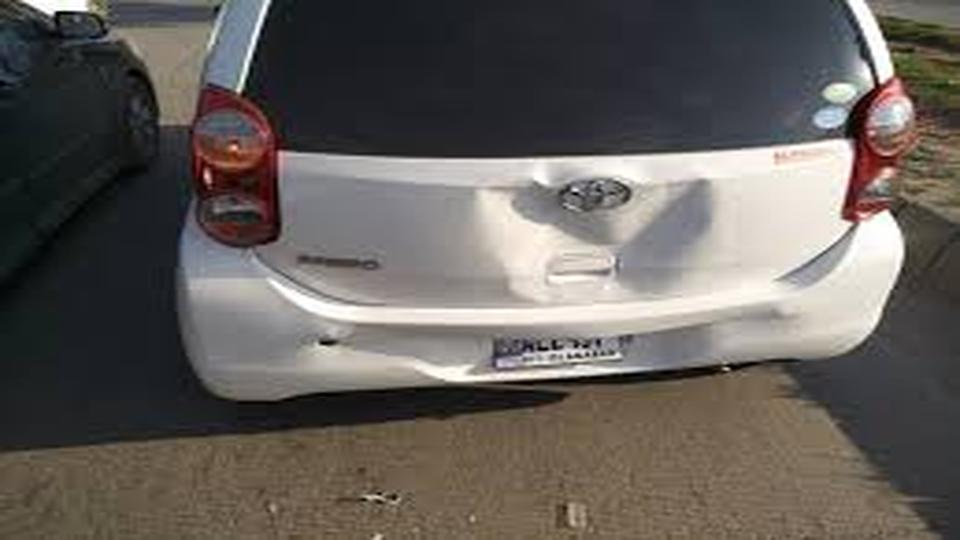NumberPlate: (482, 321, 648, 378)
